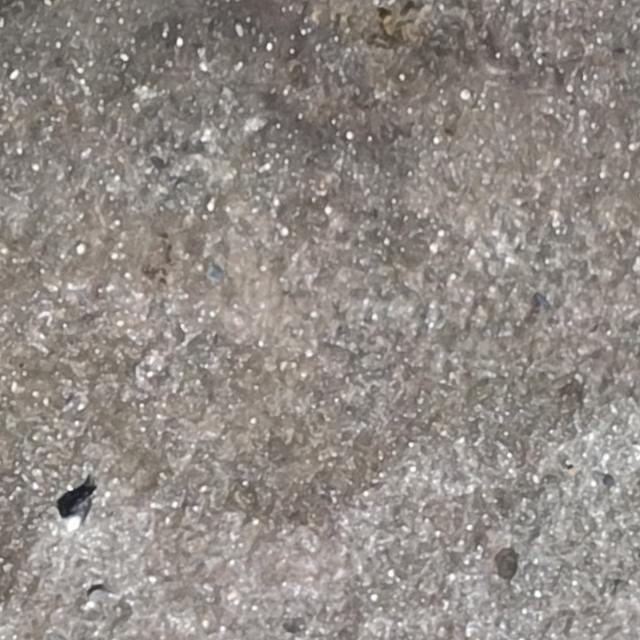umineko: (64, 497, 88, 528)
